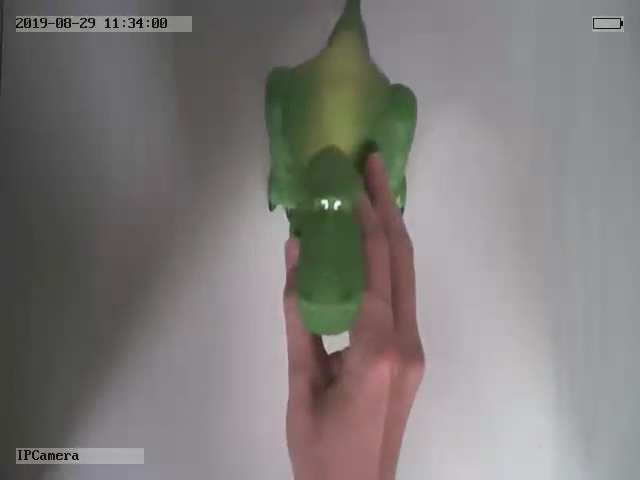rex: (263, 1, 420, 337)
